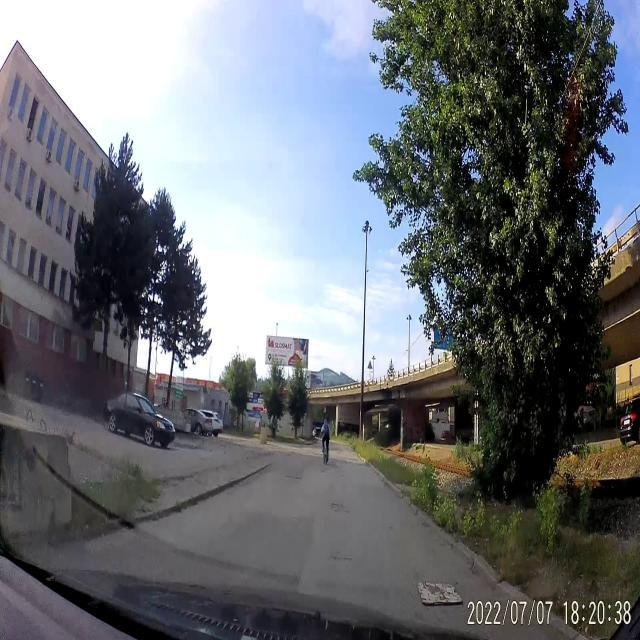Manhole: (415, 579, 463, 607)
Pothole: (326, 550, 354, 562), (332, 501, 344, 515), (285, 474, 303, 482), (344, 509, 352, 515), (388, 524, 393, 532), (293, 516, 299, 521)
